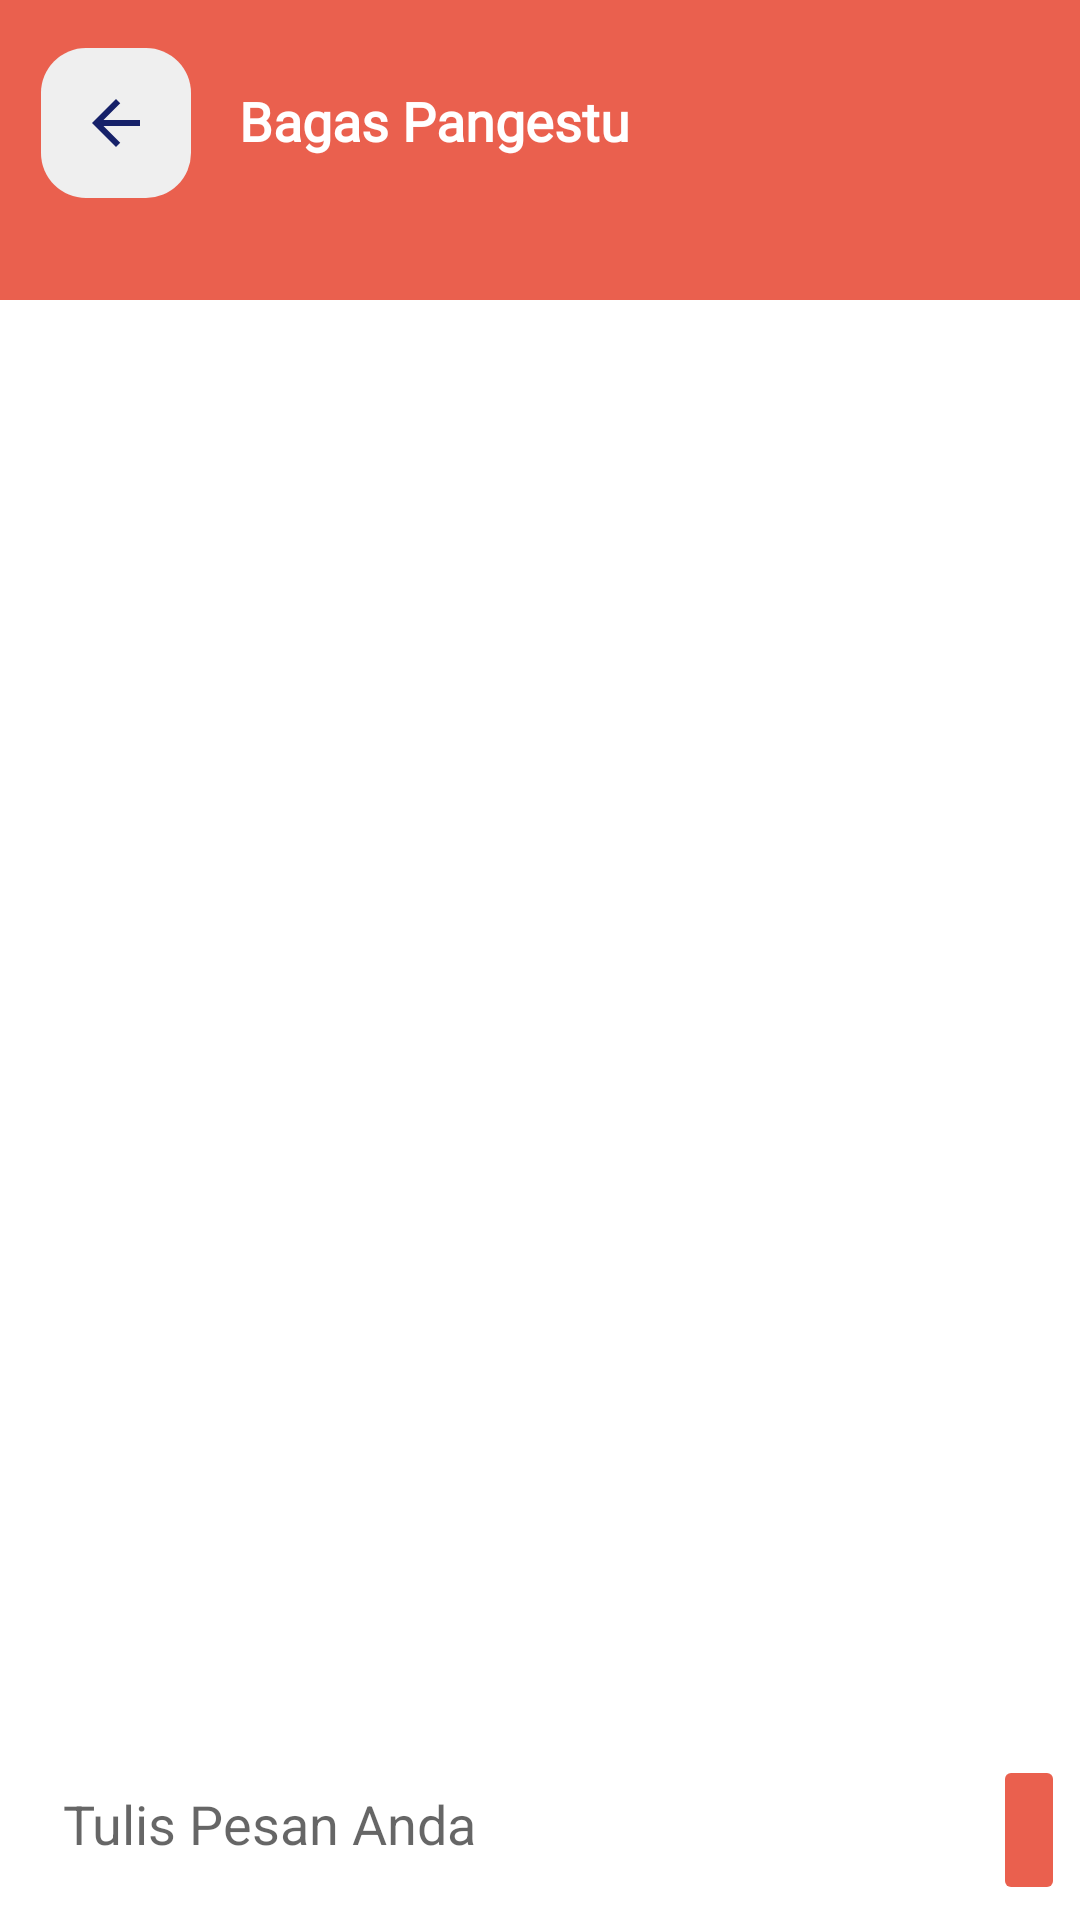

Icon click points for this 1080x1920 phone screenshot, format (x=x, y=y):
arrow back: (x=116, y=123)
